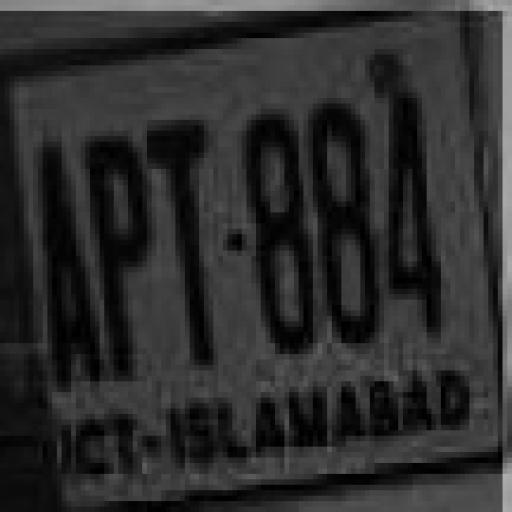4: (376, 71, 452, 335)
8: (313, 88, 378, 344), (244, 101, 308, 351)
A: (36, 133, 84, 388)
P: (81, 130, 142, 380)
T: (145, 103, 216, 379)
